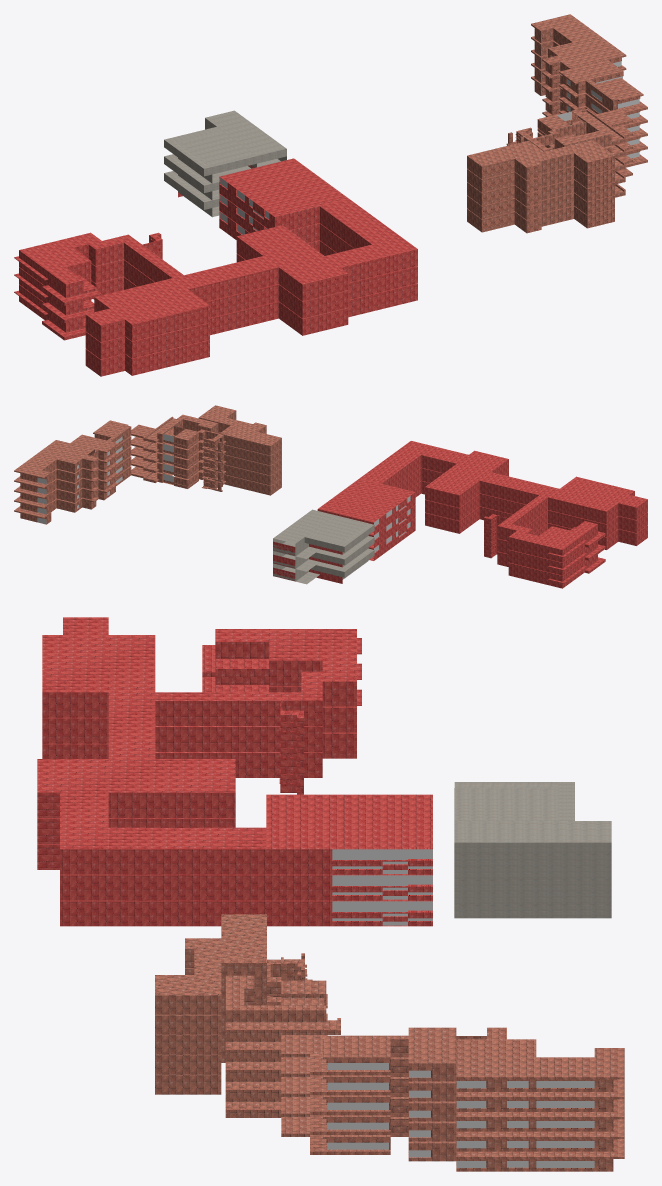
Rendered from decor04.obj.
3 views of the same model, one above another, from view 1: azimuth 30°, elevation 25°; view 2: azimuth 150°, elevation 25°; view 3: azimuth 270°, elevation 25° (orthographic). The views are drawn at different scales.
Parts seen in each view (by area): view 1: Cube.015, Cube.014, Cube.016; view 2: Cube.015, Cube.014, Cube.016; view 3: Cube.015, Cube.014, Cube.016.
Part boxes in pixels (bbox=[...]): Cube.015: bbox=[14, 158, 417, 376]; Cube.014: bbox=[467, 14, 647, 233]; Cube.016: bbox=[164, 110, 286, 217]; Cube.015: bbox=[273, 441, 647, 588]; Cube.014: bbox=[14, 405, 281, 524]; Cube.016: bbox=[273, 509, 374, 584]; Cube.015: bbox=[37, 617, 432, 926]; Cube.014: bbox=[155, 914, 624, 1171]; Cube.016: bbox=[454, 782, 611, 918].
Bounding box in the file's own units: 2247 × 217 × 1157.
Materials: 6 (4 with a texture image).
